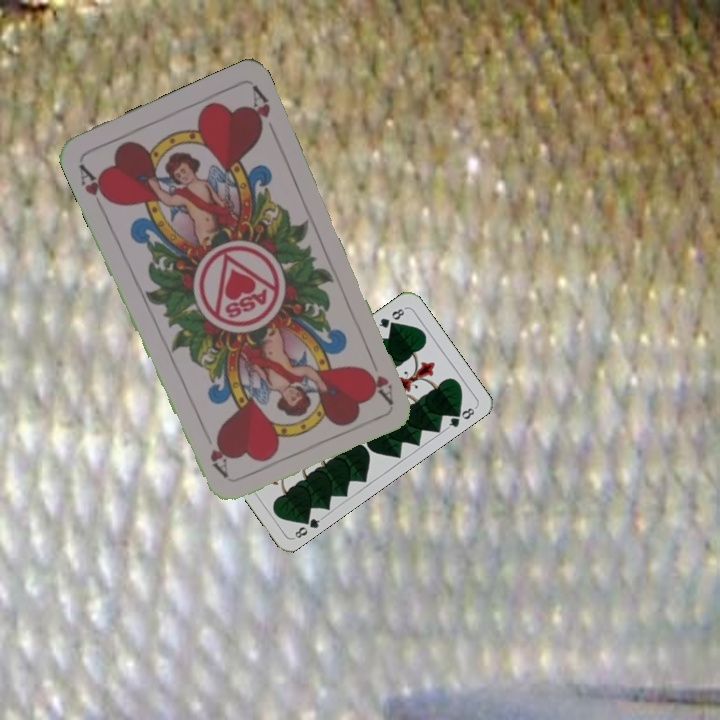G8: (290, 511, 326, 541), (373, 304, 408, 332)
HA: (75, 159, 114, 215), (361, 348, 396, 405)
